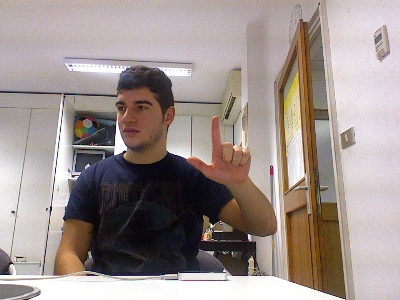枪: (185, 114, 252, 185)
